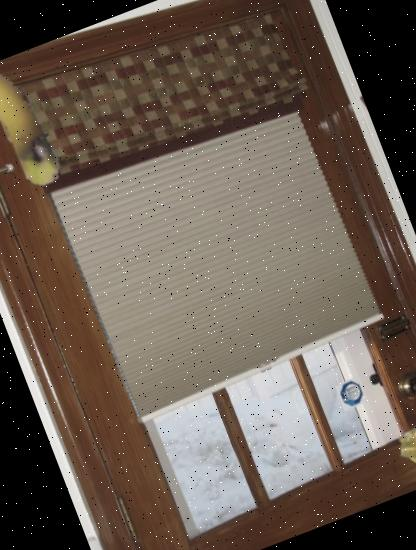Banana: (0, 40, 108, 211)
Physalis: (386, 401, 416, 485)
